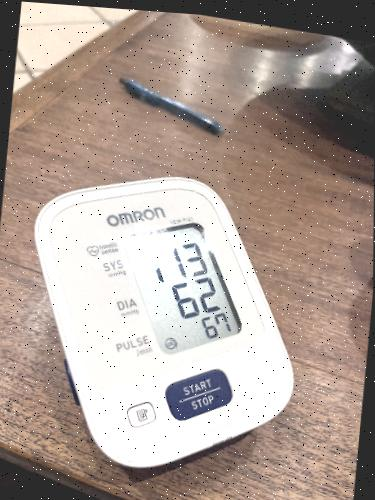bpm: (118, 206, 246, 362)
